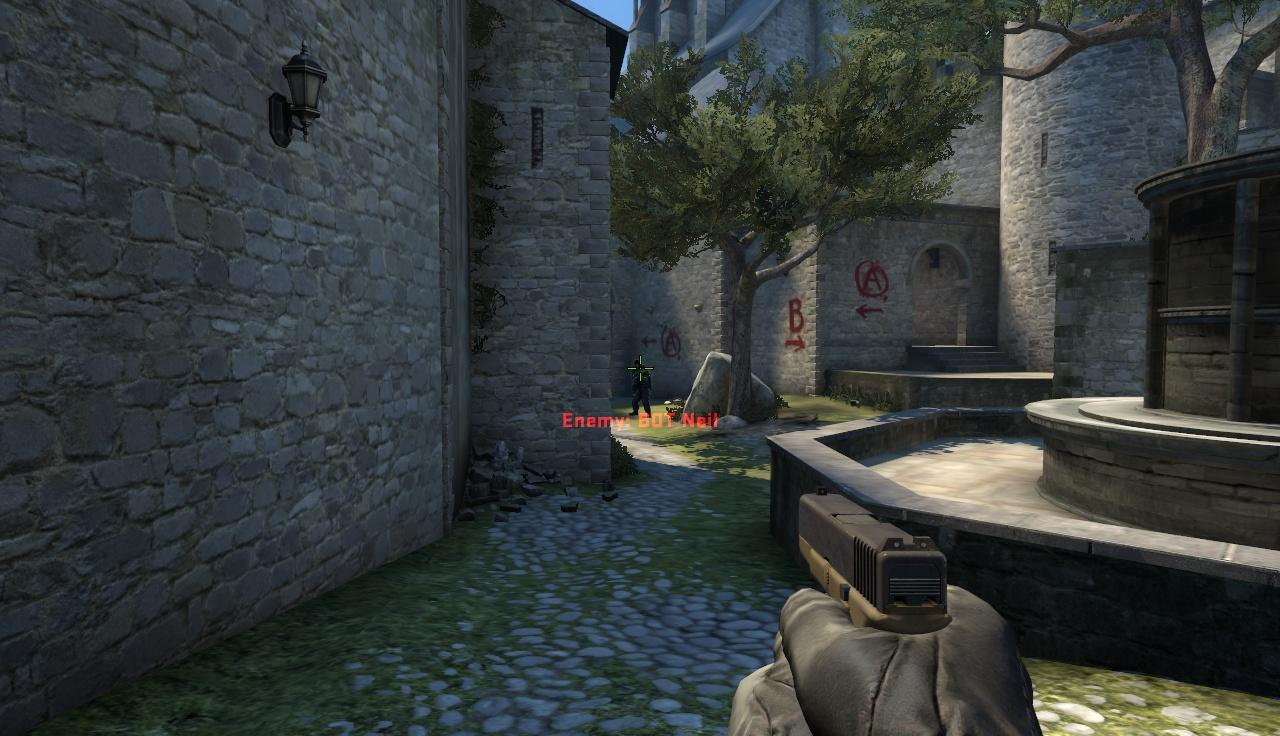ct: (633, 365, 651, 416)
cthead: (637, 365, 646, 374)
pistol: (784, 491, 1025, 736)
